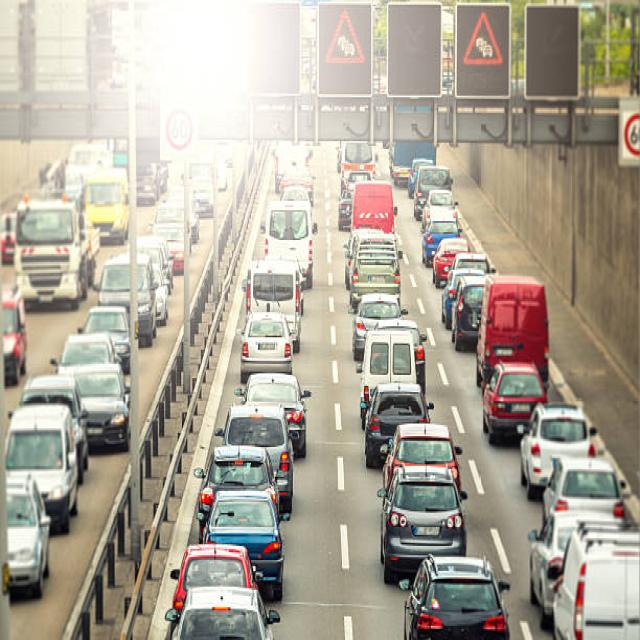Ad-signs: (454, 1, 510, 99), (316, 0, 372, 96)
Car: (377, 464, 468, 584), (203, 489, 284, 601), (403, 554, 510, 638), (233, 372, 312, 458), (170, 542, 260, 614), (164, 585, 280, 639), (540, 455, 628, 525), (4, 470, 51, 598), (382, 422, 462, 496), (67, 361, 130, 452), (482, 359, 547, 444), (239, 310, 293, 382)
